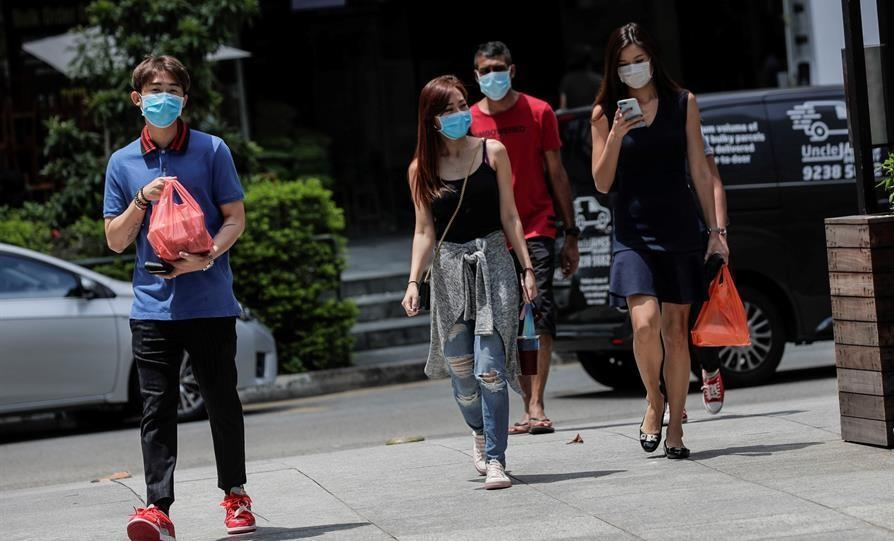with_mask: (125, 56, 197, 136), (606, 35, 671, 95), (426, 80, 476, 147), (466, 39, 518, 103)
